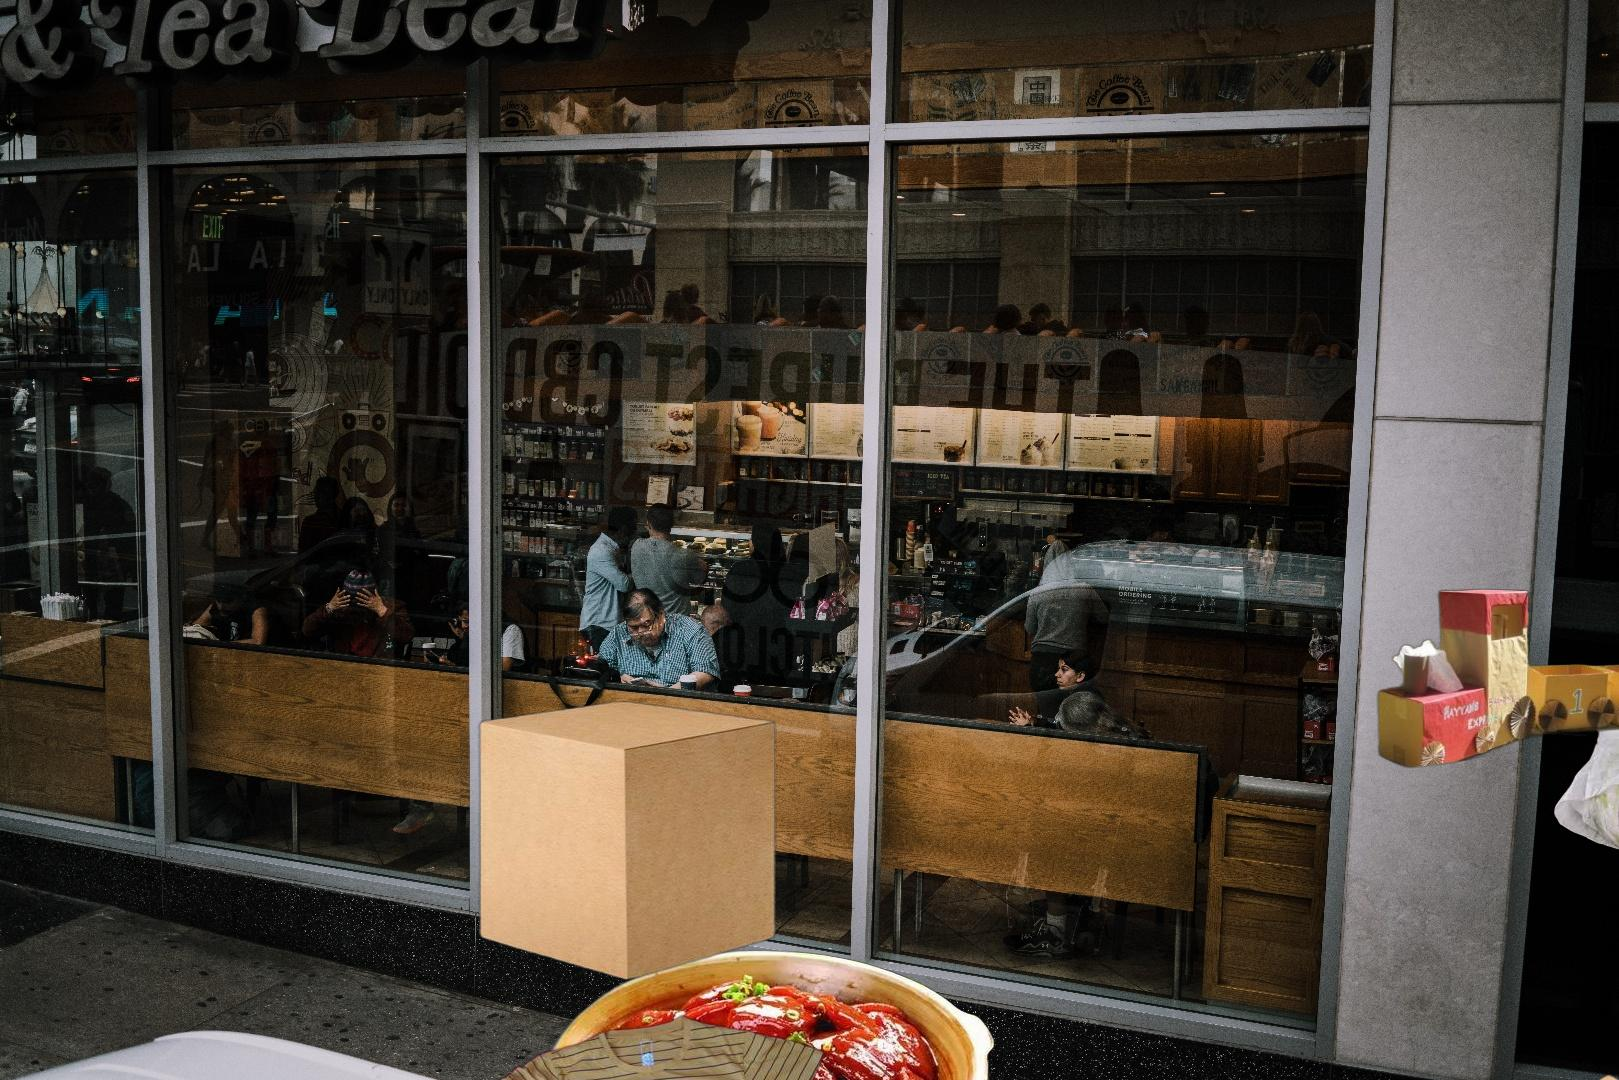biological: (522, 947, 999, 1080)
clothes: (489, 1012, 828, 1080)
plastic-bottles: (1543, 705, 1619, 1080)
trash: (1551, 697, 1619, 865)
trashbox-cardboard: (474, 697, 780, 984), (1373, 586, 1619, 771), (1354, 1069, 1619, 1080)
